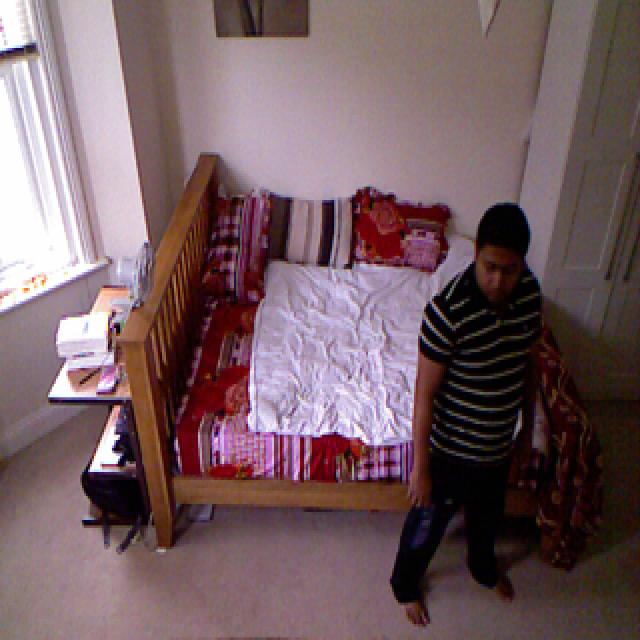standing: (389, 199, 550, 622)
